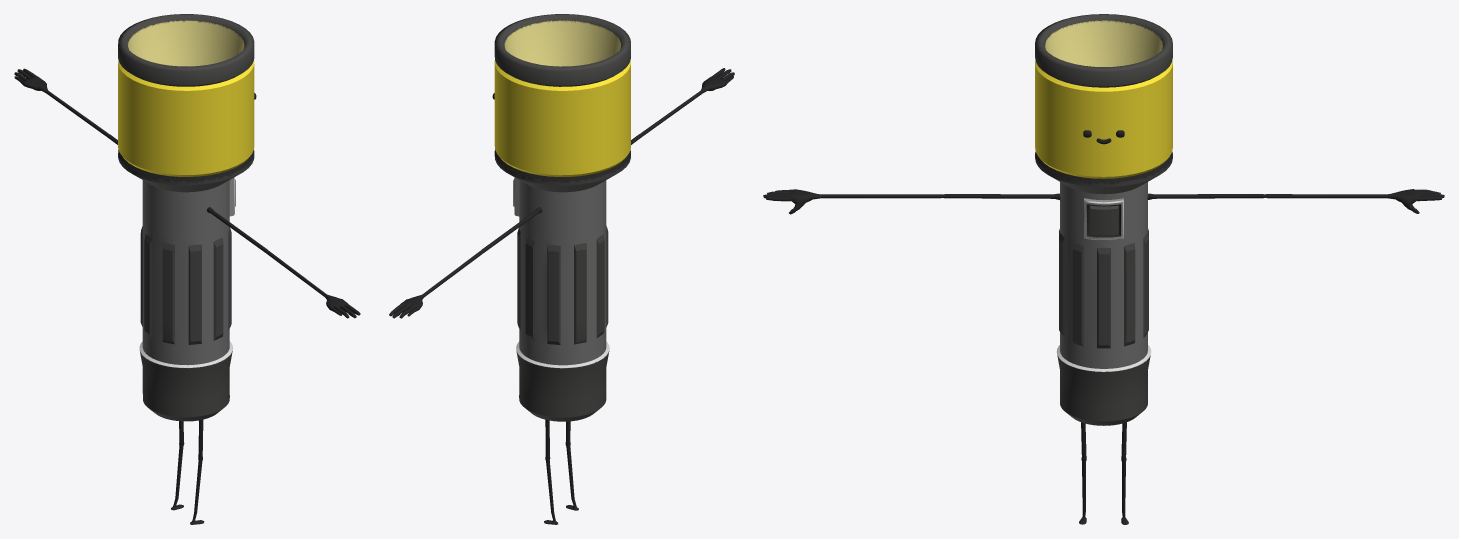
The model's file is Captain Lantern.glb.
3 views of the same model, side by side, from view 1: azimuth 30°, elevation 25°; view 2: azimuth 150°, elevation 25°; view 3: azimuth 270°, elevation 25° (orthographic).
Visible parts, largest first — view 1: _100Avatars_119_CaptainLantern; view 2: _100Avatars_119_CaptainLantern; view 3: _100Avatars_119_CaptainLantern.
Boxes of the visible parts, box(x1,y1,x2,y2) form: _100Avatars_119_CaptainLantern: box(14, 14, 360, 524); _100Avatars_119_CaptainLantern: box(389, 14, 734, 524); _100Avatars_119_CaptainLantern: box(763, 14, 1444, 524).
Bounding box in the file's own units: 1.58 × 5.94 × 7.63.
Materials: 1 (1 with a texture image).
